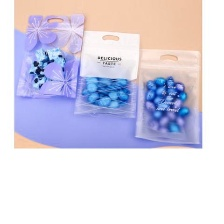snack: (129, 44, 202, 147), (67, 25, 144, 120), (13, 9, 89, 103)
